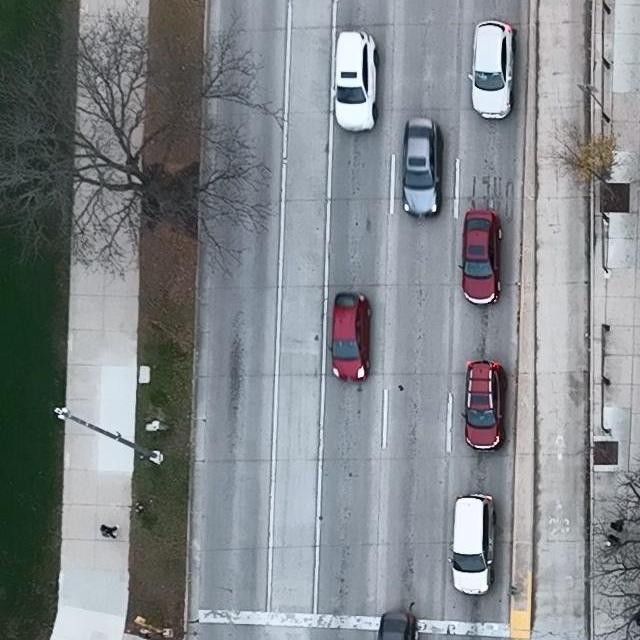car: (447, 494, 497, 596), (467, 20, 517, 119), (332, 31, 378, 133), (401, 117, 444, 219), (459, 209, 503, 307), (461, 360, 507, 453), (330, 291, 373, 383), (376, 612, 418, 640)
